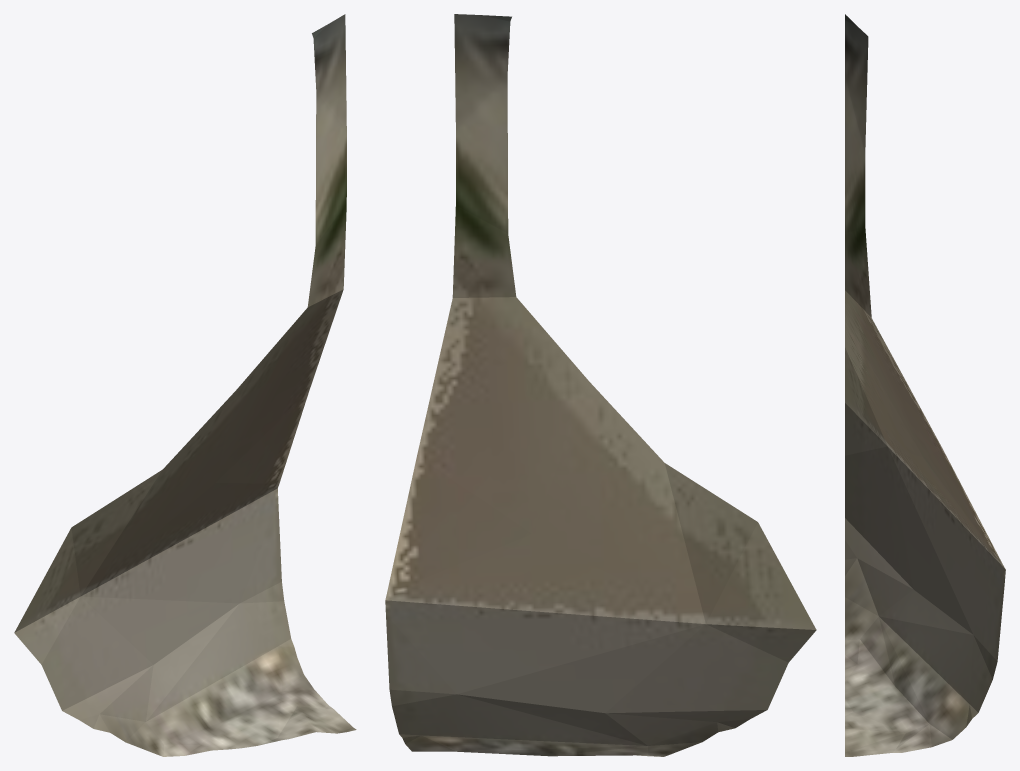
3 renders of one model, left to right at view 1: azimuth 30°, elevation 25°; view 2: azimuth 150°, elevation 25°; view 3: azimuth 270°, elevation 25°, orthographic. The views are drawn at different scales.
Size of the model in its own units: 1.14 by 2.26 by 0.4562.
1 material, 1 textured.
